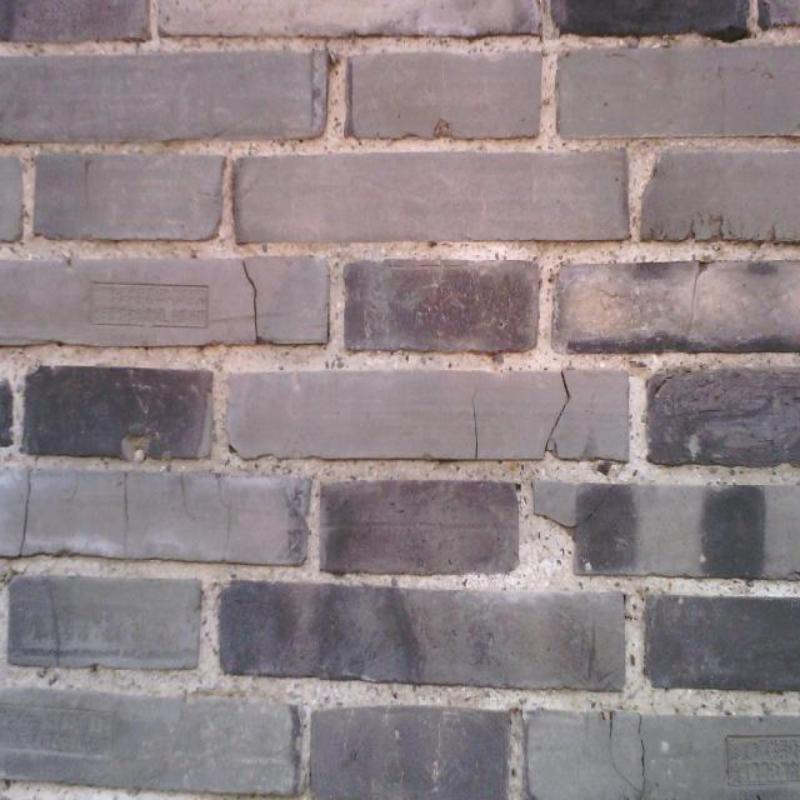pothole: (608, 715, 646, 800), (682, 261, 713, 350), (544, 372, 572, 453), (572, 485, 615, 528), (216, 474, 231, 560), (243, 262, 258, 341), (181, 472, 205, 520), (19, 470, 32, 554), (472, 387, 478, 459), (125, 472, 129, 517), (609, 712, 613, 741)
